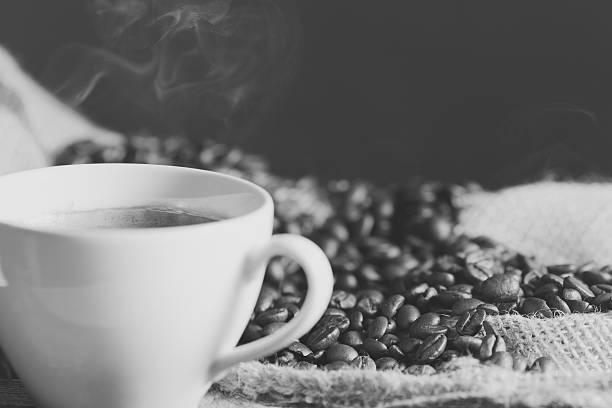cup-handle: (1, 161, 335, 407)
